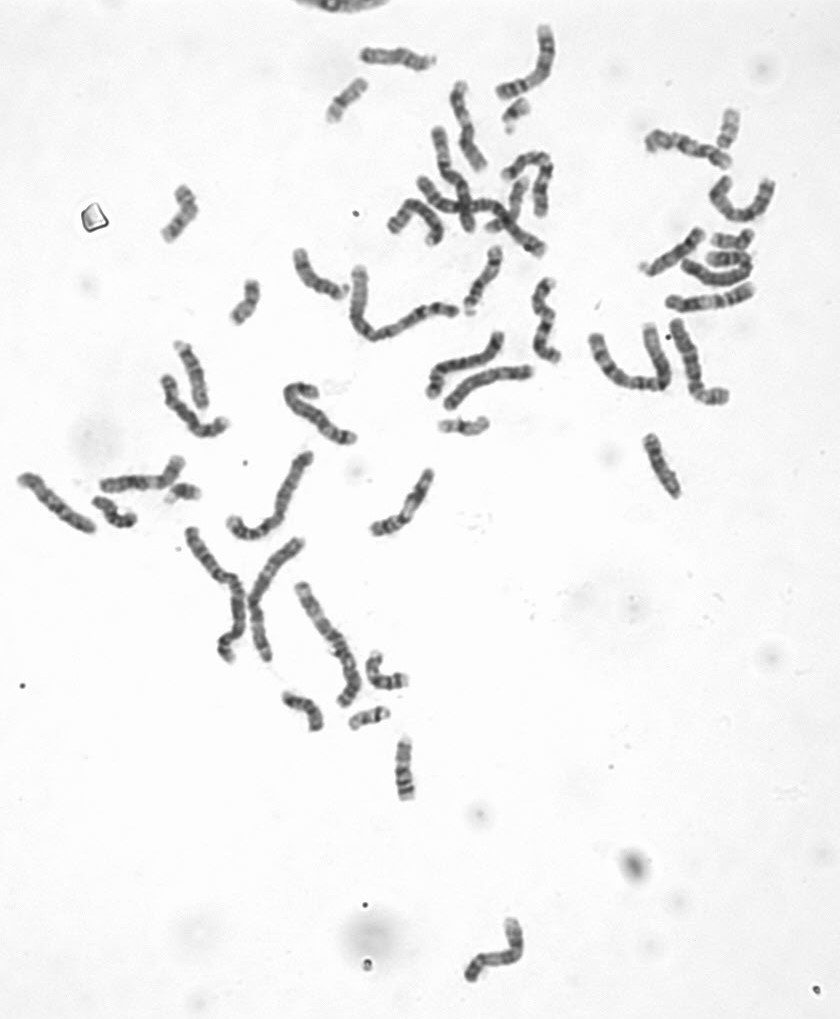chromosomes: (414, 172, 554, 261), (343, 265, 463, 348), (180, 525, 249, 666), (292, 581, 363, 709), (225, 450, 319, 543), (250, 533, 311, 669), (588, 320, 676, 397), (426, 119, 480, 242), (424, 328, 511, 403), (668, 314, 735, 410), (492, 21, 569, 103), (15, 473, 104, 539), (279, 377, 360, 449), (460, 911, 531, 988), (440, 364, 542, 415), (160, 372, 232, 443), (367, 467, 439, 536), (445, 73, 492, 175), (640, 126, 738, 173), (502, 144, 557, 223), (96, 450, 187, 496), (636, 224, 710, 278), (294, 244, 353, 308), (639, 430, 688, 506), (385, 194, 447, 252), (659, 279, 759, 314), (709, 175, 777, 226), (463, 244, 508, 320), (529, 274, 565, 366), (678, 246, 755, 288), (483, 174, 535, 234), (174, 339, 216, 413), (155, 182, 199, 251), (324, 72, 373, 130), (355, 44, 443, 76), (389, 731, 423, 802), (365, 646, 412, 694), (222, 277, 262, 331), (283, 689, 327, 738), (89, 494, 141, 530), (499, 96, 540, 138), (716, 102, 747, 152), (710, 228, 759, 254), (347, 705, 394, 732), (162, 481, 204, 509), (437, 417, 493, 437)
